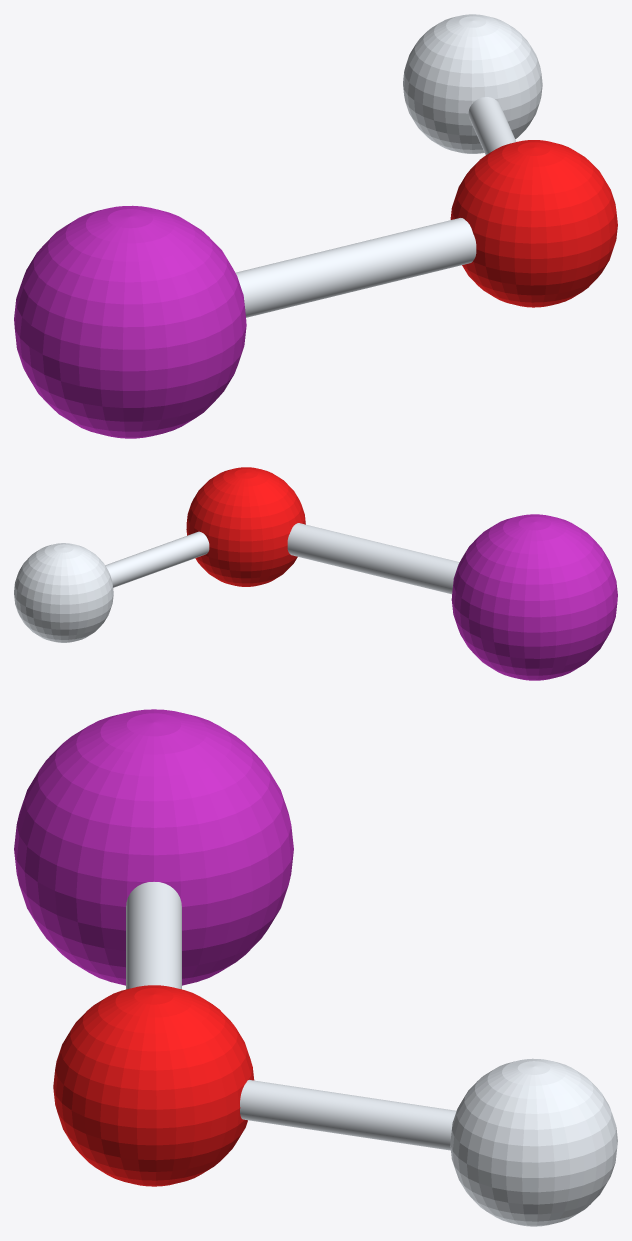
Rendered from sodium_hydroxide.fbx.
3 renders of one model, top to bottom at view 1: azimuth 30°, elevation 25°; view 2: azimuth 150°, elevation 25°; view 3: azimuth 270°, elevation 25°, orthographic. The views are drawn at different scales.
Parts seen in each view (by area): view 1: sodium_hydroxide; view 2: sodium_hydroxide; view 3: sodium_hydroxide.
Boxes of the visible parts, box(x1,y1,x2,y2) form: sodium_hydroxide: box(14, 14, 617, 438); sodium_hydroxide: box(14, 467, 617, 680); sodium_hydroxide: box(14, 709, 617, 1226).
Bounding box in the file's own units: 164 × 50 × 108.
